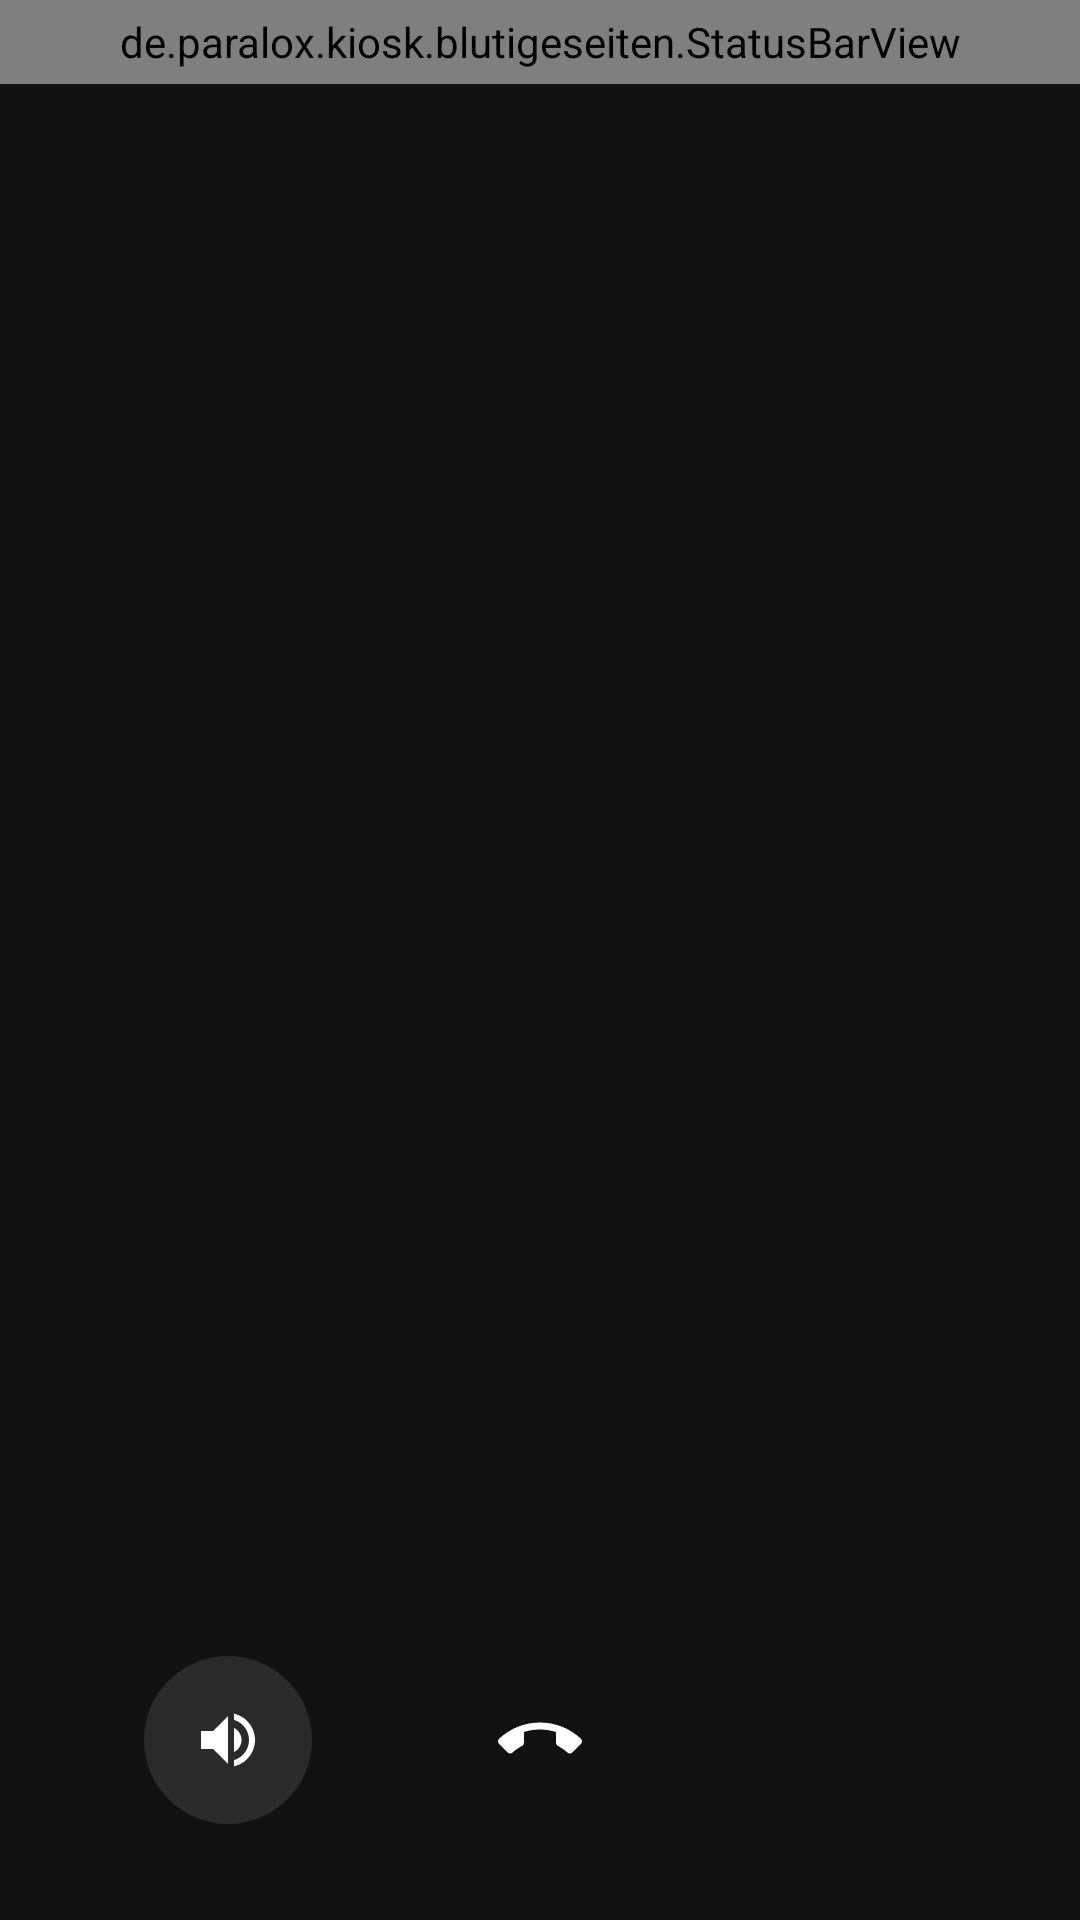

Screen size 1080×1920. Icon name, then its box in pixels as (x1, y1, x2, y2):
Auflegen: (498, 1722, 582, 1754)
Lautsprecher: (144, 1656, 312, 1824)
